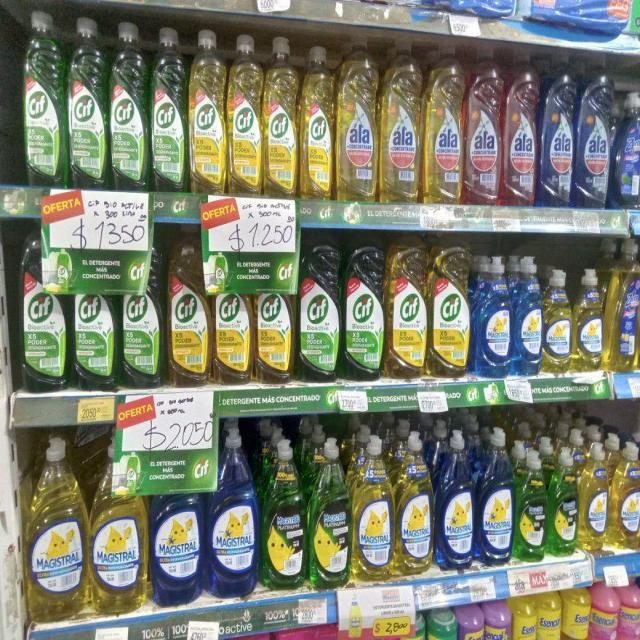ala_conc_amarillo: (379, 44, 421, 204), (337, 41, 378, 202), (424, 51, 464, 205)
ala_conc_azul: (575, 73, 611, 209), (540, 69, 574, 208), (614, 90, 640, 210)
ala_conc_rojo: (465, 60, 502, 207), (503, 66, 538, 208)
cif_conc_bot_amarilla: (167, 224, 210, 384), (188, 29, 226, 194), (227, 32, 262, 196), (263, 34, 298, 198), (386, 240, 427, 379), (429, 242, 470, 378), (299, 41, 334, 200), (254, 288, 294, 383), (213, 289, 252, 384)
cif_conc_botella_verde: (17, 223, 68, 392), (22, 9, 65, 188), (67, 14, 107, 190), (121, 231, 164, 388), (109, 21, 148, 191), (150, 25, 187, 192), (298, 238, 340, 382), (342, 238, 383, 381), (72, 291, 117, 391), (0, 1, 20, 185)
esencial: (589, 580, 618, 640), (562, 586, 590, 640), (616, 577, 640, 640), (537, 589, 562, 640), (512, 593, 537, 640), (427, 605, 458, 640), (458, 602, 484, 640)
heroe: (485, 598, 511, 640)
magistral_con_amarillo: (26, 436, 87, 623), (90, 454, 147, 615), (352, 434, 393, 582), (395, 430, 433, 577), (610, 442, 640, 552), (573, 266, 604, 372), (543, 267, 572, 375), (580, 442, 608, 553)
magistral_con_azul: (208, 428, 258, 598), (150, 488, 204, 606), (436, 428, 475, 571), (478, 427, 513, 567), (474, 254, 512, 378), (513, 255, 542, 377)
zorro: (607, 243, 640, 373)
